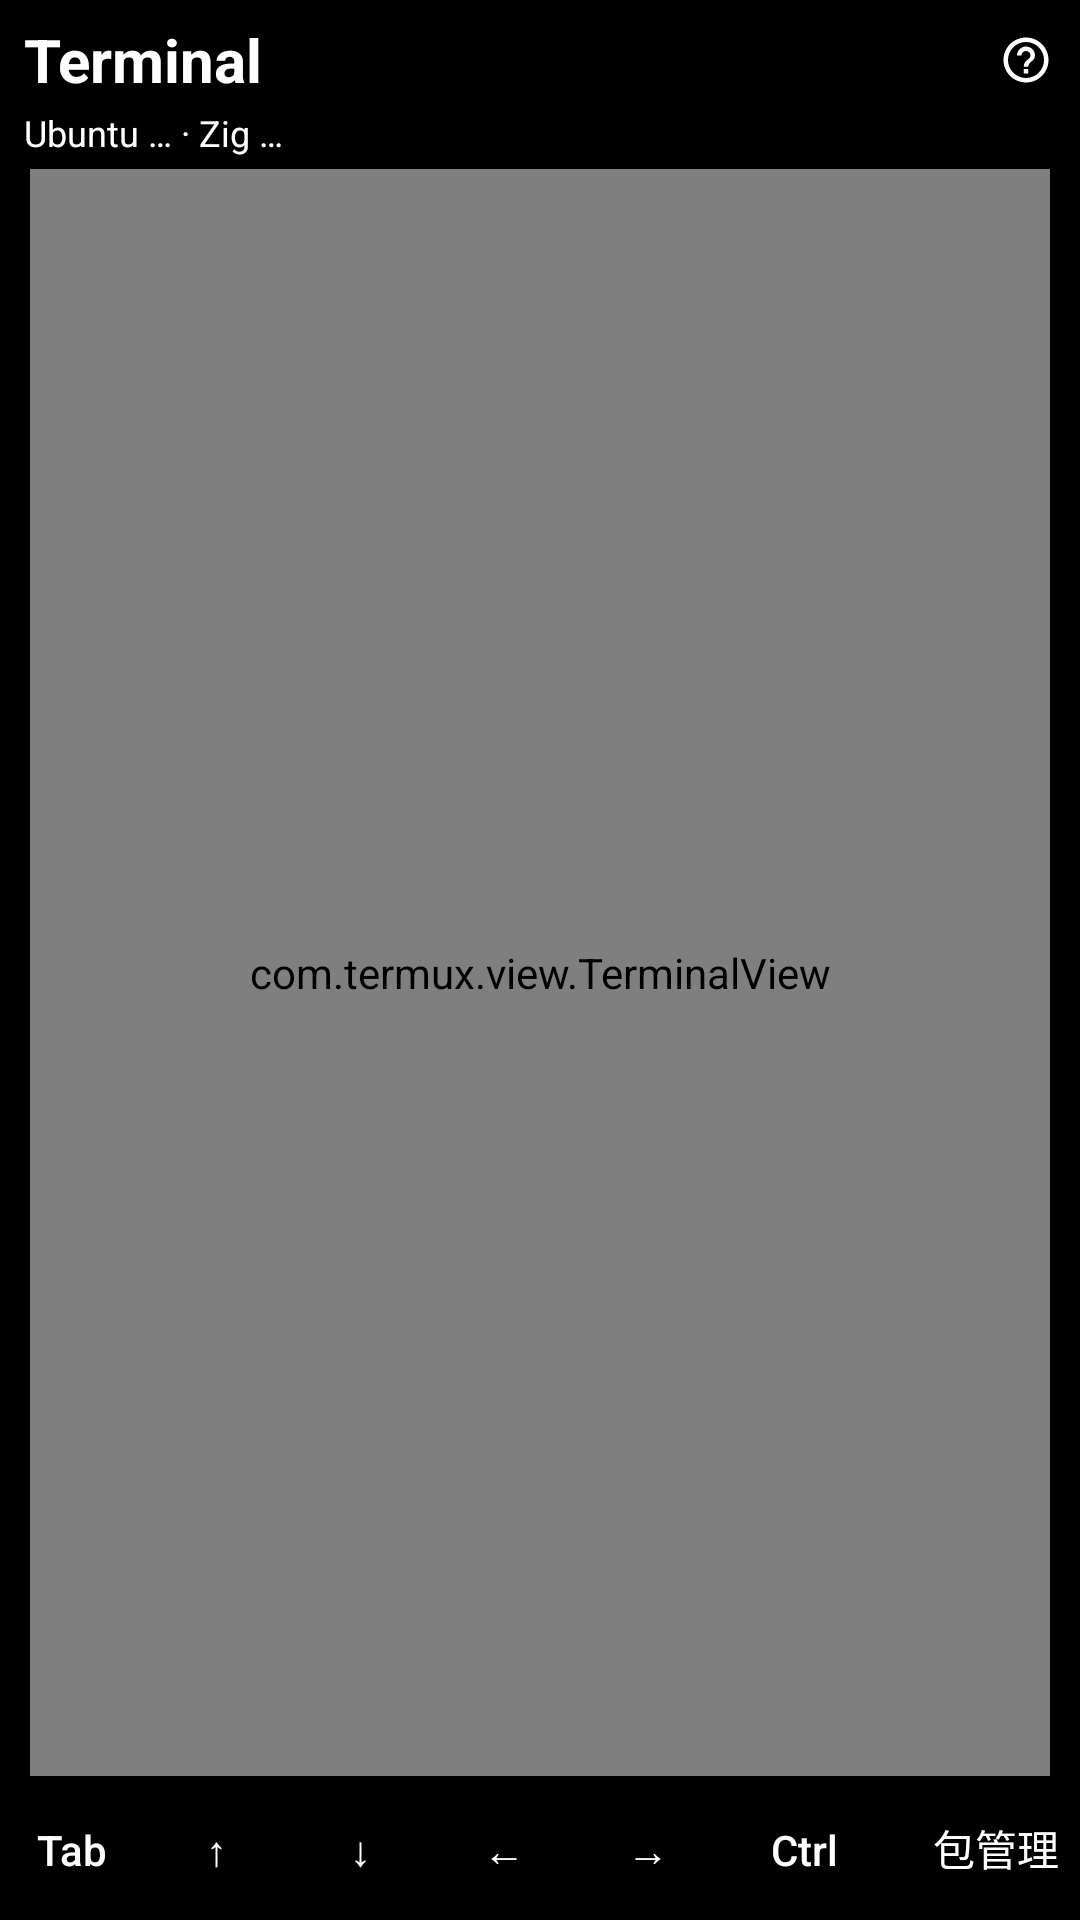

Icons on this 1080px×1920px Android screen, each with its box as (x1, y1, x2, y2):
运行环境详情: (1003, 37, 1049, 83)
